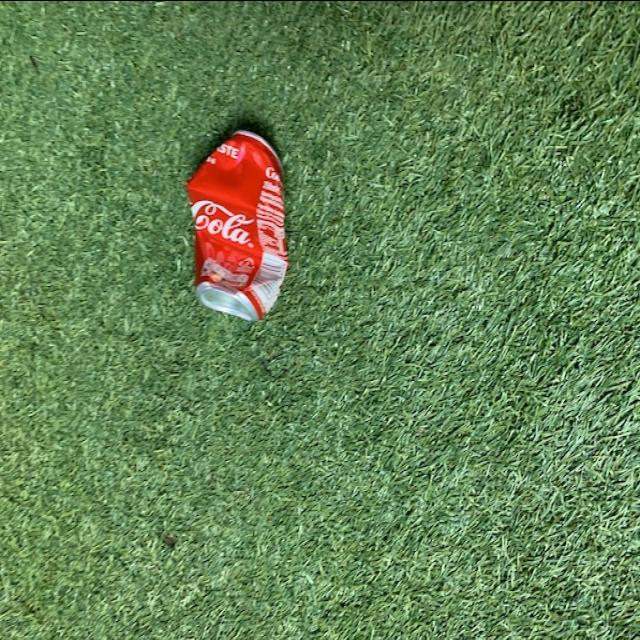litter: (181, 118, 299, 322)
